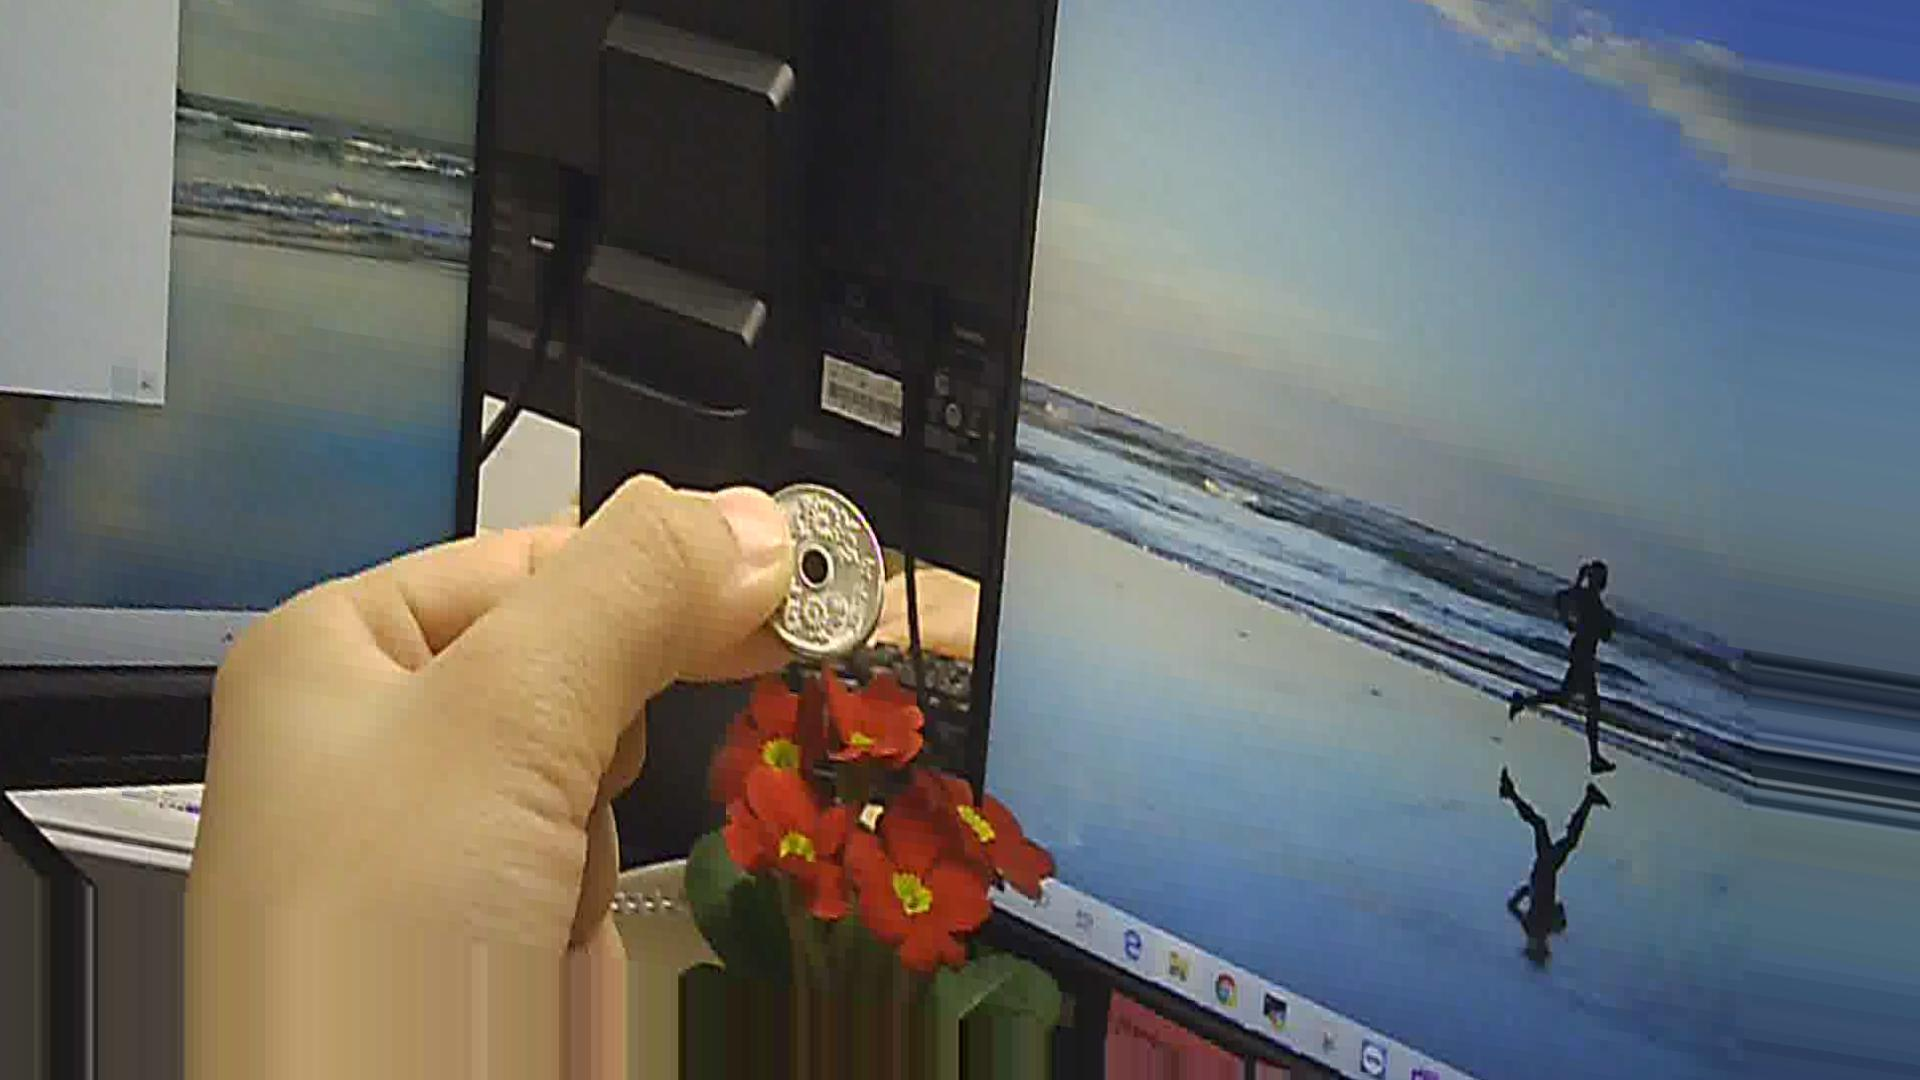50 Yen: (754, 481, 882, 663)
